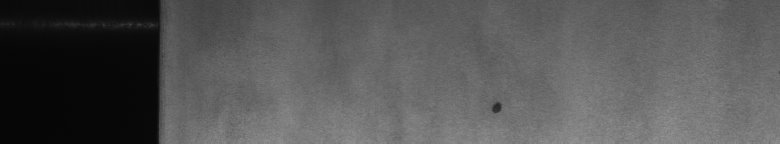fi: (485, 92, 508, 120)
